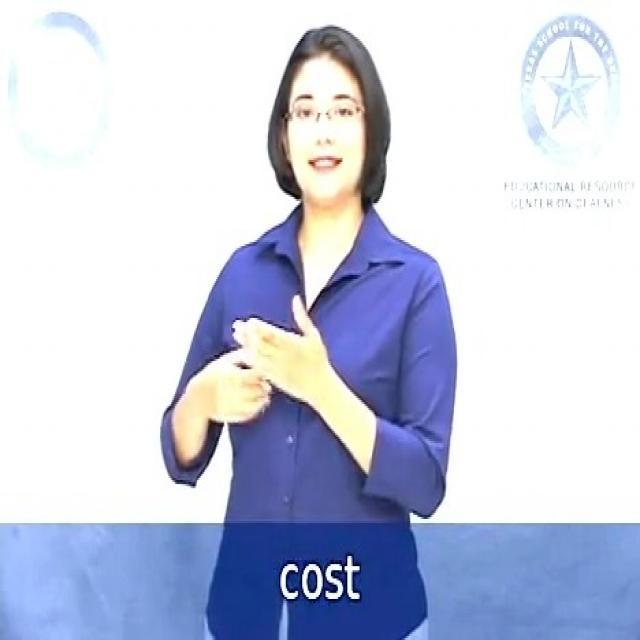cost: (204, 290, 318, 442)
